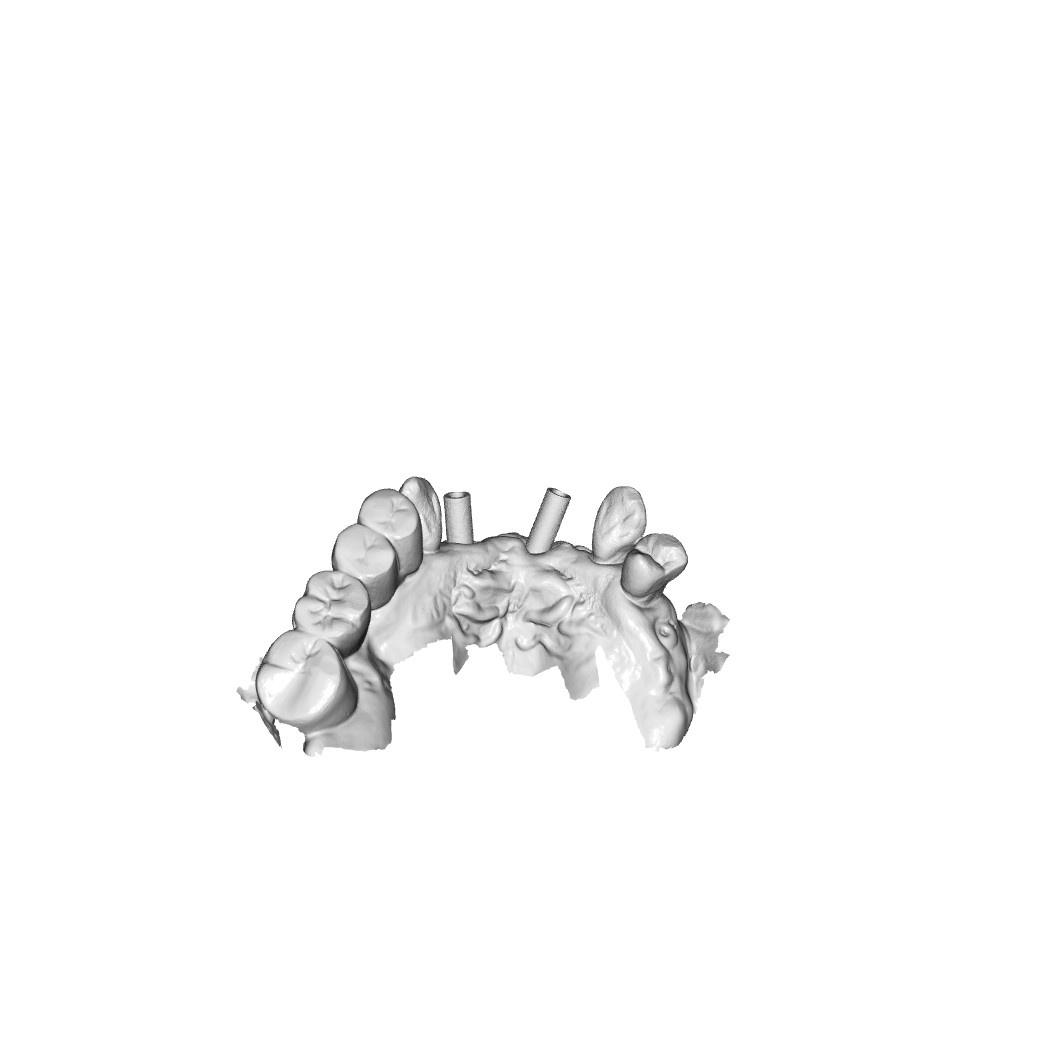canine: (591, 484, 648, 560), (396, 473, 445, 553)
implant: (525, 486, 576, 561), (442, 486, 475, 548), (648, 622, 678, 647)
molar: (256, 627, 349, 729), (290, 569, 370, 656)
premolar: (619, 530, 690, 599), (358, 486, 422, 557), (331, 525, 393, 588)
